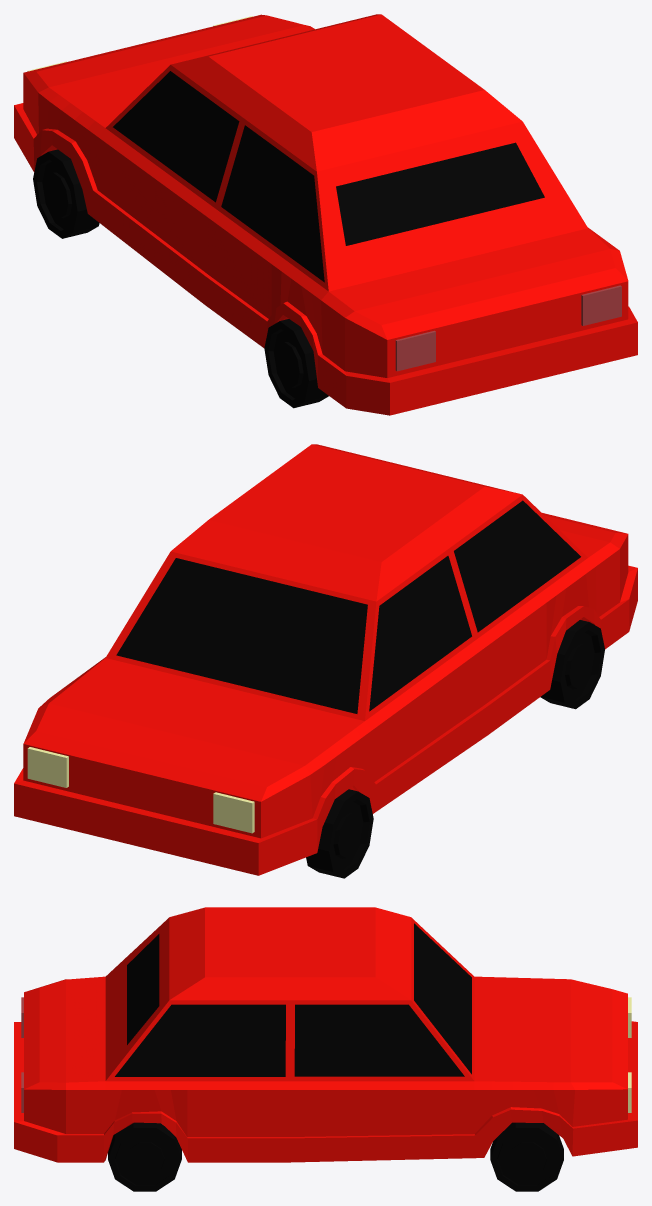
File: car.fbx
The picture shows the model from 3 angles, top to bottom: view 1: azimuth 30°, elevation 25°; view 2: azimuth 150°, elevation 25°; view 3: azimuth 270°, elevation 25°; orthographic projection. The views are drawn at different scales.
Parts seen in each view (by area): view 1: car; view 2: car; view 3: car.
Part boxes in pixels (left/top/right/bottom): car: left=14, top=14, right=637, bottom=415; car: left=14, top=444, right=637, bottom=878; car: left=14, top=907, right=637, bottom=1191.
Bounding box in the file's own units: 129 × 95.46 × 285.
